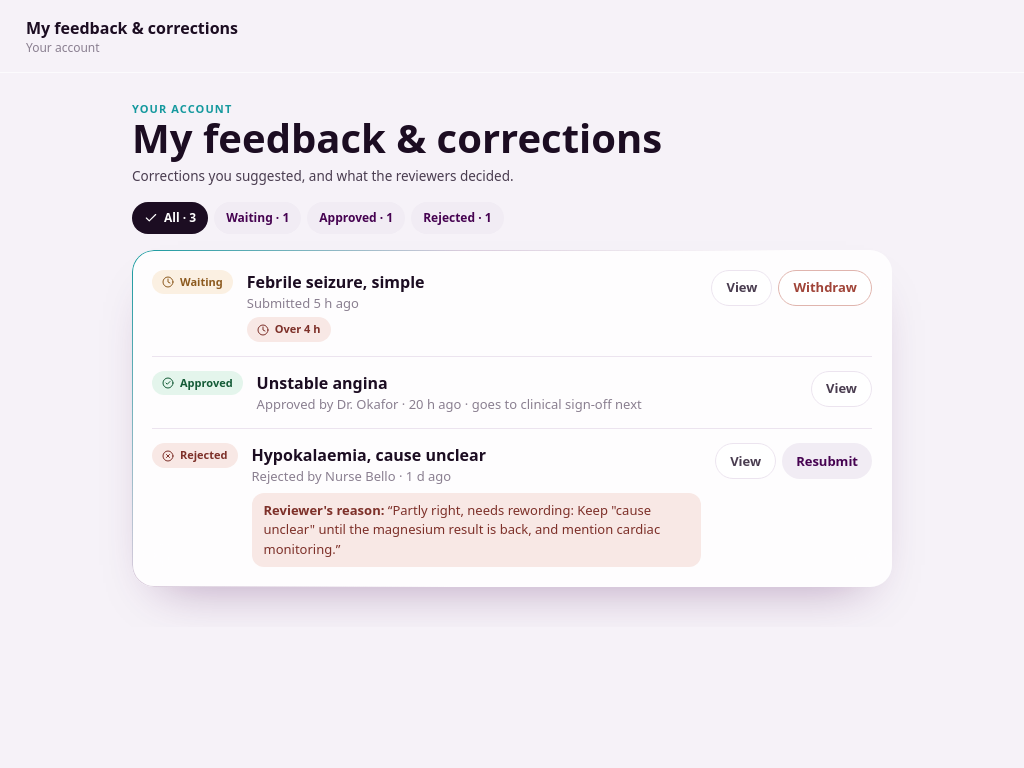
Test case: MyCorrectionsView › asks before withdrawing, with a safe default, then withdraws
Click the button with aria-label "Withdraw: Febrile seizure, simple": coordinates (825, 288) [778,270,872,306]
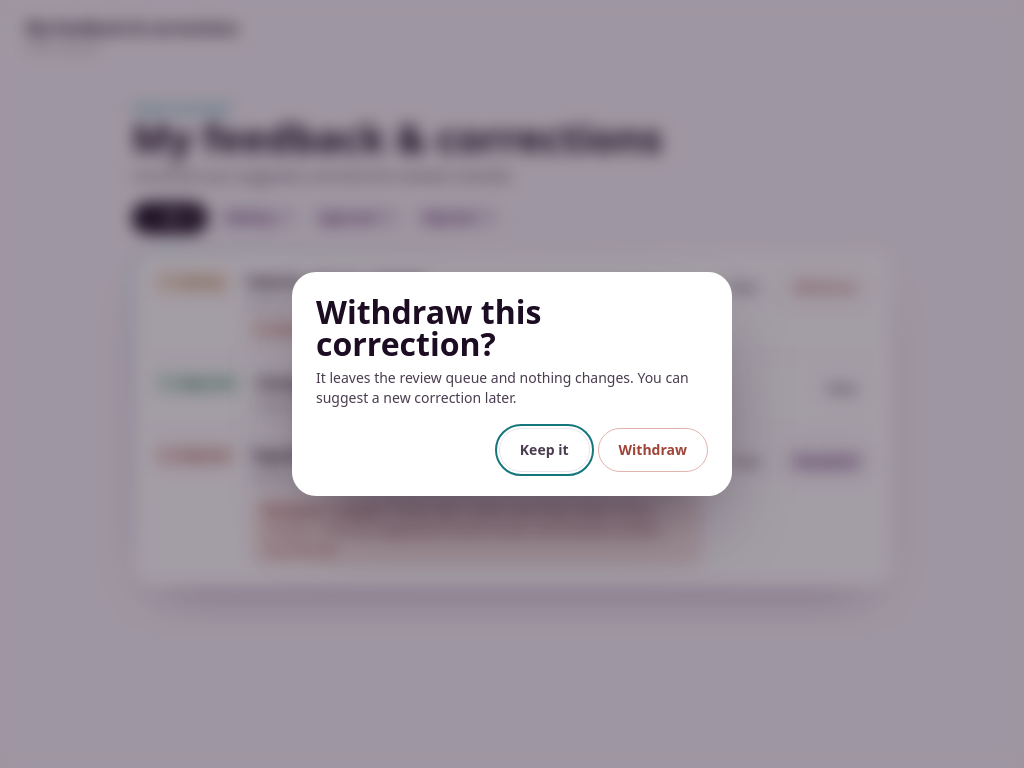
Click the button "Withdraw": coordinates (653, 450) [598,428,708,472]
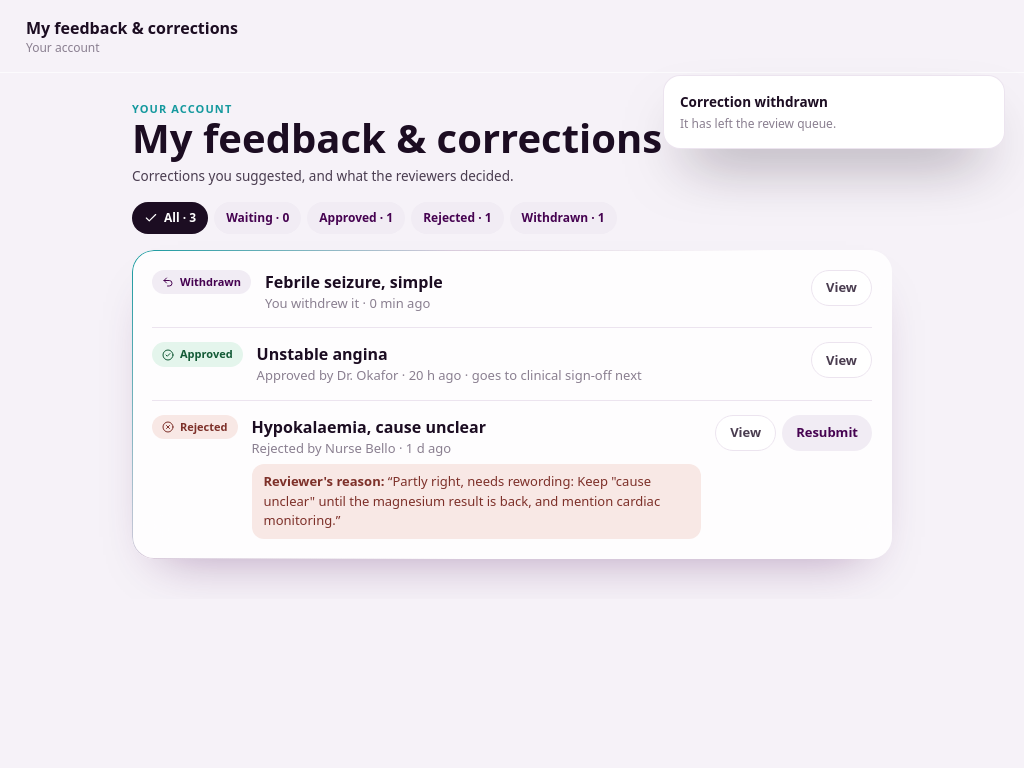
Now the text "Correction withdrawn" is shown, box [680,93,828,111]
Now the button "Withdrawn · 1" is shown, box [510,202,617,234]
